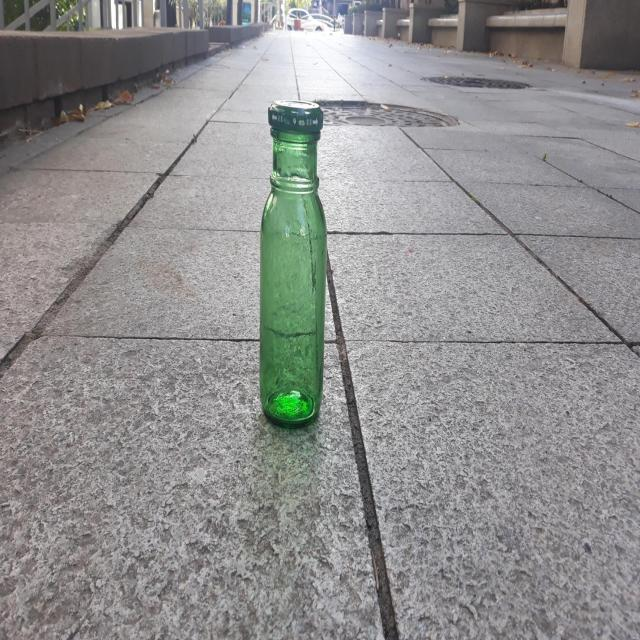glass: (260, 98, 327, 425)
